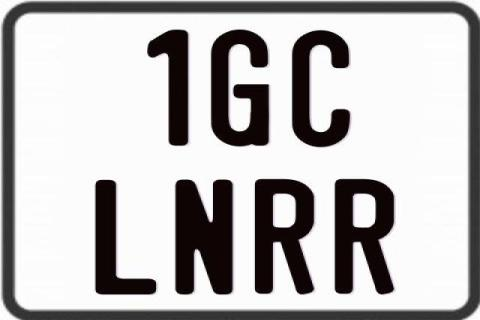0: (144, 28, 185, 146)
C: (292, 28, 356, 148)
G: (210, 27, 268, 147)
L: (93, 179, 160, 296)
N: (173, 177, 232, 293)
R: (255, 177, 319, 292), (333, 180, 395, 298)
